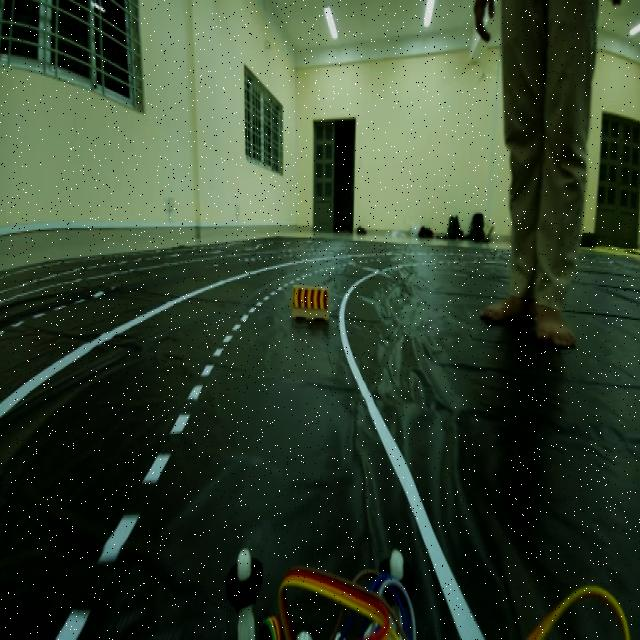roadblock: (289, 276, 332, 326)
